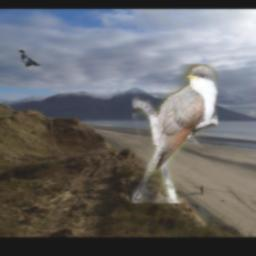Crow: (18, 49, 41, 69)
Cuckoo: (132, 64, 218, 203)
